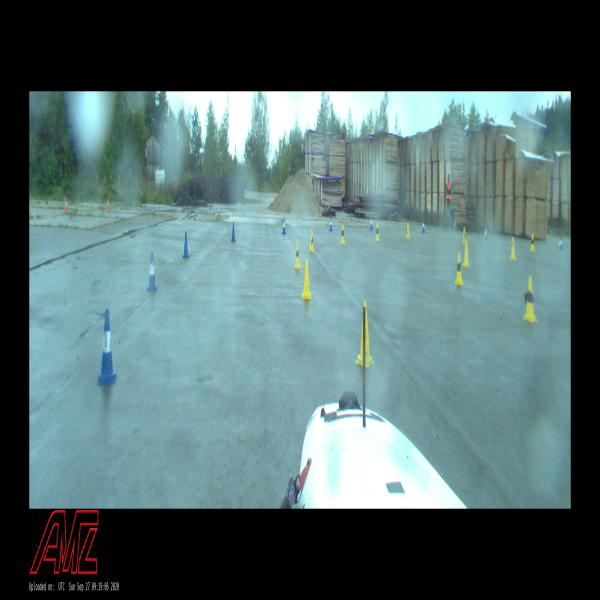blue_cone: (98, 312, 117, 382), (148, 252, 156, 292), (182, 234, 190, 258), (231, 223, 236, 242), (282, 217, 286, 234), (484, 225, 488, 240), (329, 217, 332, 230), (422, 219, 424, 232), (560, 235, 562, 248), (370, 217, 372, 228)
orange_cone: (64, 199, 68, 212), (107, 199, 109, 210)
yellow_cone: (355, 301, 374, 367), (522, 278, 536, 322), (301, 259, 312, 300), (454, 252, 463, 285), (293, 242, 302, 268), (463, 241, 470, 266), (340, 224, 346, 244), (308, 230, 313, 251), (510, 236, 515, 257), (530, 233, 534, 252), (406, 224, 410, 238), (376, 222, 379, 240), (462, 226, 465, 244)
